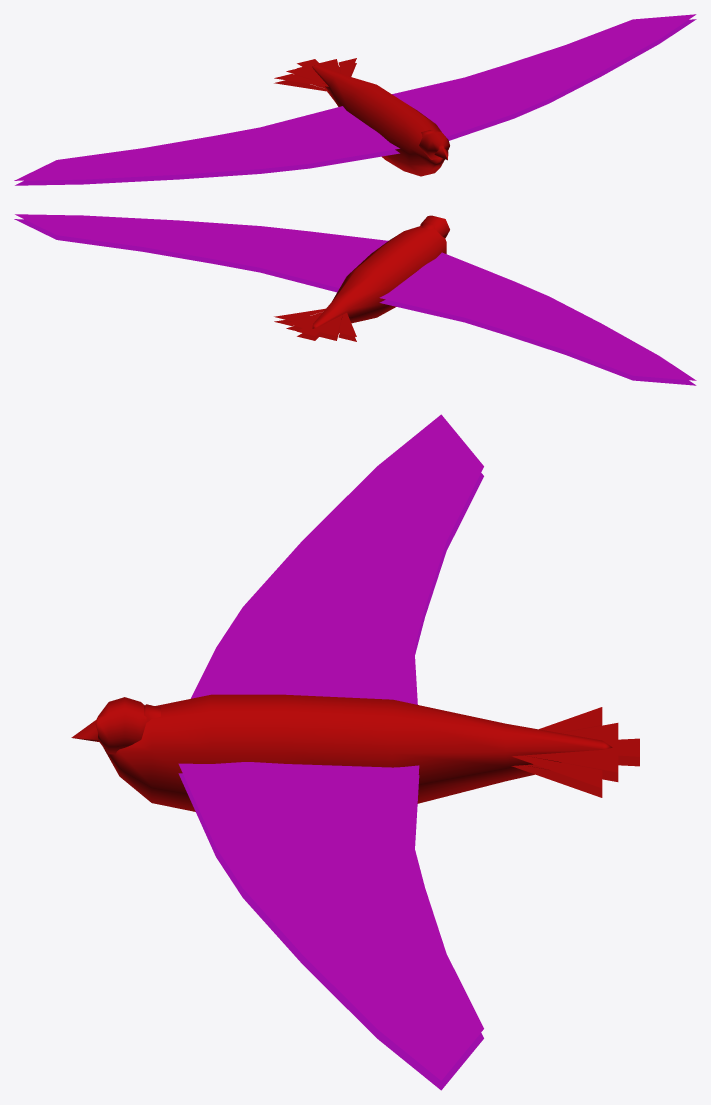
Rendered from eleonora.glb.
3 views of the same model, one above another, from view 1: azimuth 30°, elevation 25°; view 2: azimuth 150°, elevation 25°; view 3: azimuth 270°, elevation 25° (orthographic). The views are drawn at different scales.
Parts seen in each view (by area): view 1: bird; view 2: bird; view 3: bird.
Boxes of the visible parts, left/top/right/bottom form: bird: left=14, top=14, right=696, bottom=185; bird: left=14, top=214, right=696, bottom=385; bird: left=71, top=414, right=639, bottom=1090.
Size of the model in its own units: 1.15 by 0.0859 by 0.4141.
